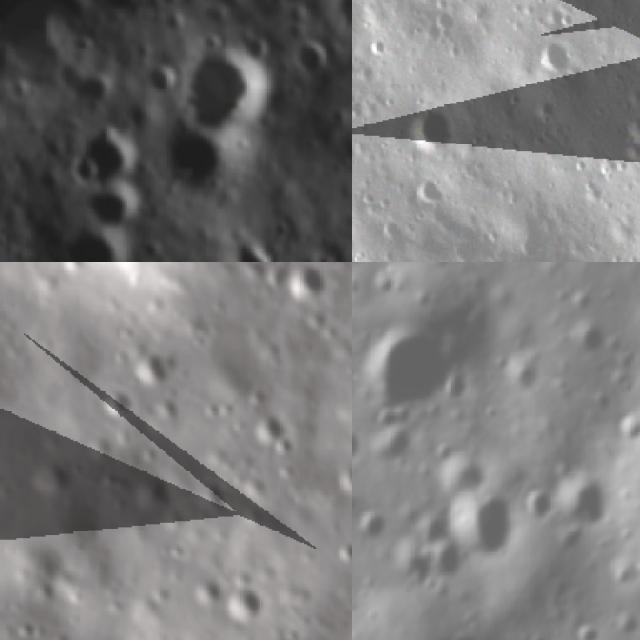crater: (184, 46, 284, 146), (364, 321, 463, 422), (445, 487, 524, 564), (160, 123, 234, 199), (555, 465, 627, 539), (402, 100, 462, 158), (566, 307, 620, 364), (370, 417, 419, 472), (385, 550, 441, 598), (500, 352, 550, 405), (80, 133, 142, 175), (432, 541, 487, 588), (78, 187, 144, 222), (352, 501, 396, 552), (64, 223, 121, 262), (530, 31, 578, 77), (123, 472, 171, 517), (286, 262, 330, 310), (297, 39, 341, 86), (250, 414, 289, 454), (217, 581, 260, 615), (415, 172, 450, 210), (539, 0, 576, 35), (95, 385, 133, 419), (352, 422, 376, 473), (144, 62, 178, 95), (619, 108, 640, 159), (534, 93, 562, 129), (615, 411, 640, 449), (335, 446, 352, 500), (422, 13, 446, 48), (73, 76, 106, 101), (569, 621, 611, 640), (233, 240, 267, 262), (327, 137, 352, 165), (371, 34, 394, 64), (66, 160, 95, 183), (332, 0, 352, 30), (379, 219, 402, 242), (159, 12, 183, 34), (110, 48, 132, 68), (572, 156, 589, 177), (314, 252, 336, 262), (352, 58, 358, 82)
